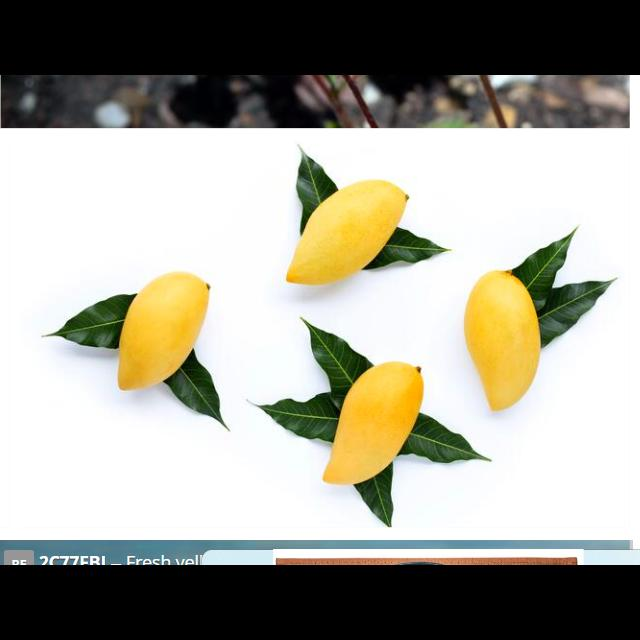mango: (287, 179, 406, 286), (324, 361, 422, 488), (115, 272, 212, 393), (463, 267, 540, 409)
